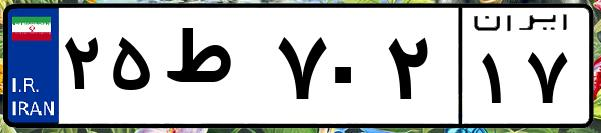0: (330, 28, 385, 110)
1: (475, 38, 525, 113)
2: (385, 28, 445, 110), (57, 26, 110, 100)
5: (110, 28, 158, 98)
7: (270, 28, 330, 110), (525, 38, 570, 115)
ط: (158, 20, 270, 120)
